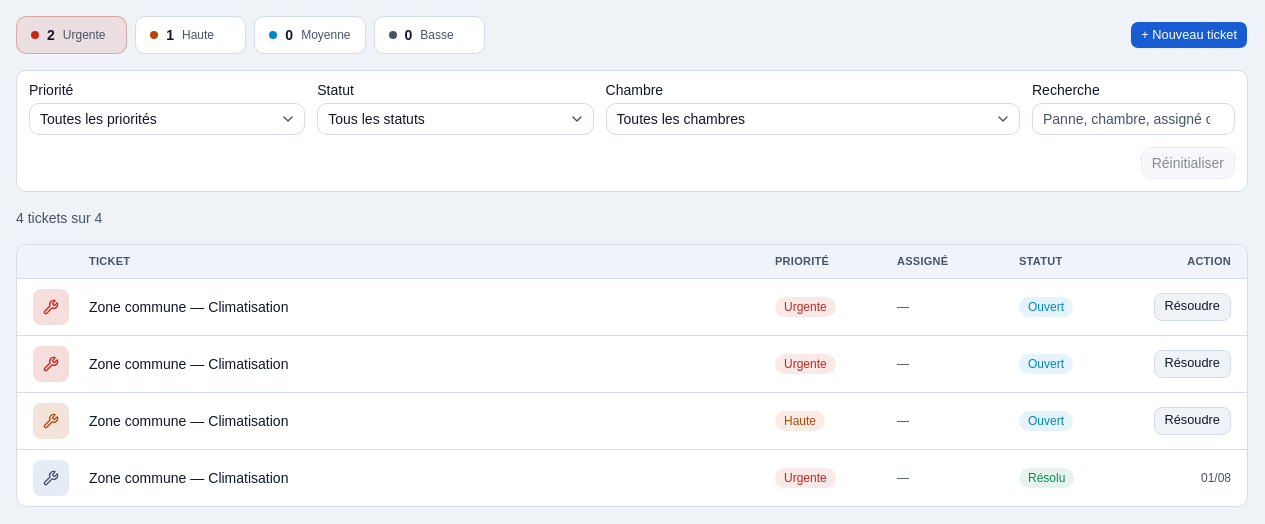
Scenario: MaintenancePage — filtres et compteurs › conserve les compteurs des tickets ouverts lors du filtrage
Expected: the text "4 tickets sur 4" is shown, [16,210,102,226]
Click the dropdown labelled "statut". click: (377, 119)
box: [317,103,594,135]
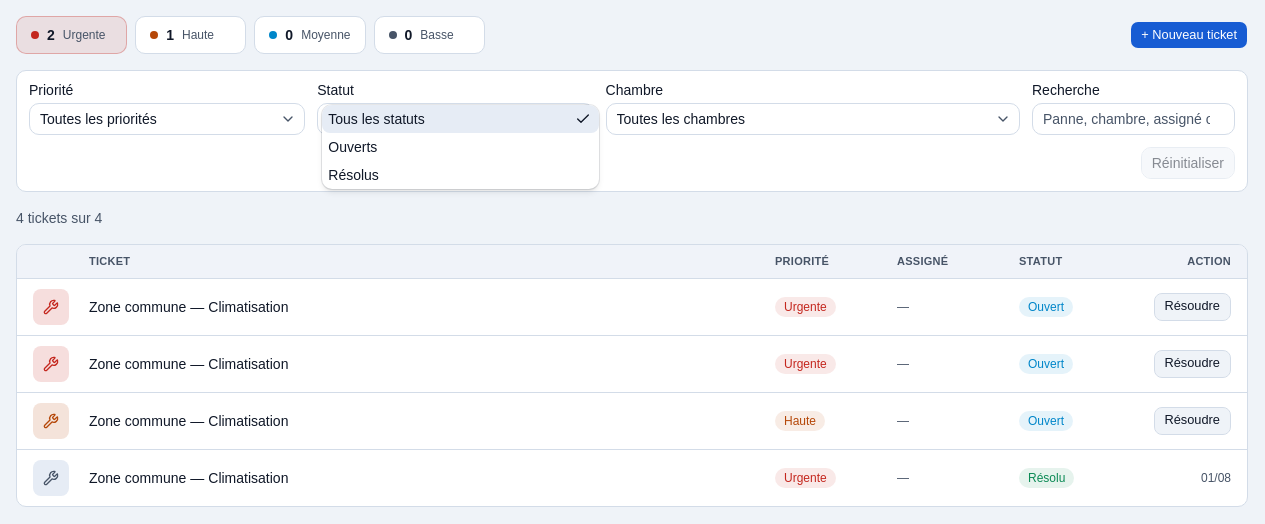
Click the option "Résolus". click: (354, 175)
box: [328,167,379,183]
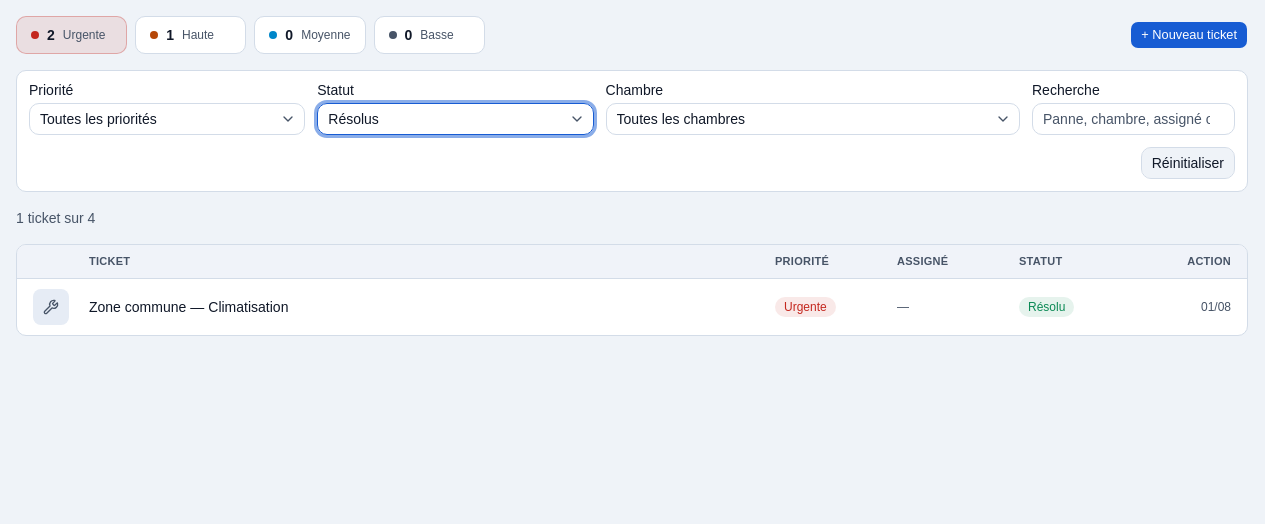
Expected: the button with aria-label "Urgente : 2 tickets ouverts" is shown, [16,16,127,54]
Result: the text "1 ticket sur 4" is shown at [16,210,95,226]
